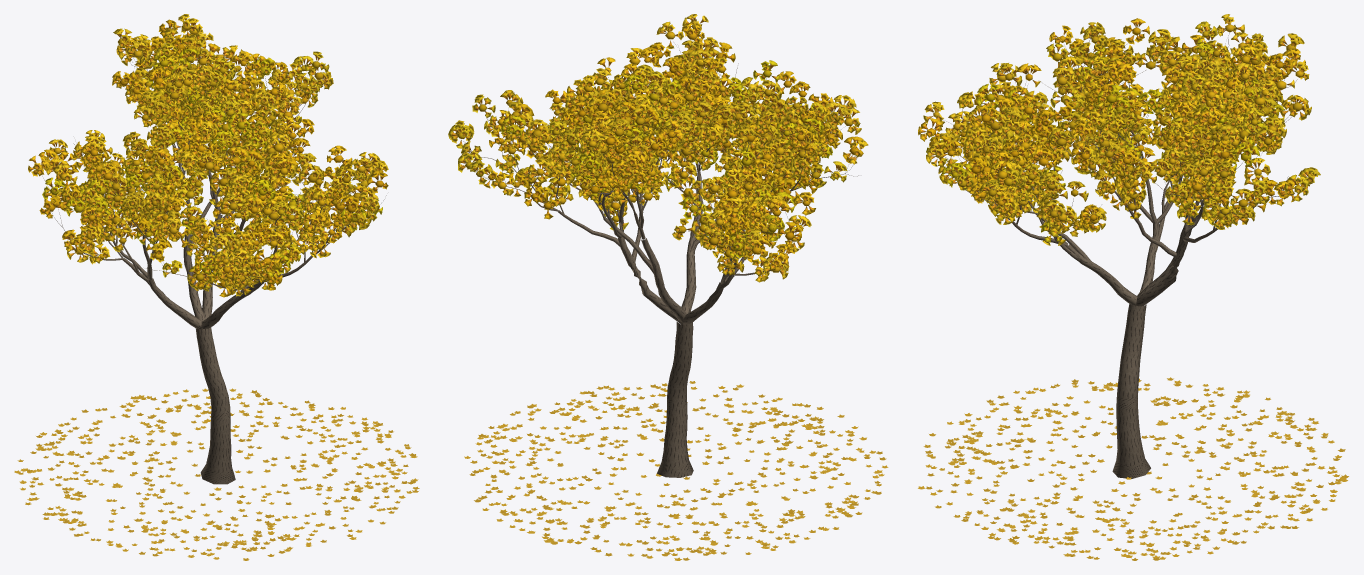
The model's file is ipe_amarelo.glb.
The picture shows the model from 3 angles, left to right: view 1: azimuth 30°, elevation 25°; view 2: azimuth 150°, elevation 25°; view 3: azimuth 270°, elevation 25°; orthographic projection. The views are drawn at different scales.
Visible parts, largest first — view 1: Ipe_amarelo; view 2: Ipe_amarelo; view 3: Ipe_amarelo.
Part boxes in pixels (box(x1,y1,x2,y2)): Ipe_amarelo: box(14, 14, 419, 560); Ipe_amarelo: box(448, 14, 888, 560); Ipe_amarelo: box(918, 14, 1348, 560).
Bounding box in the file's own units: 2.66 × 3.01 × 2.63.
4 materials, 4 textured.
